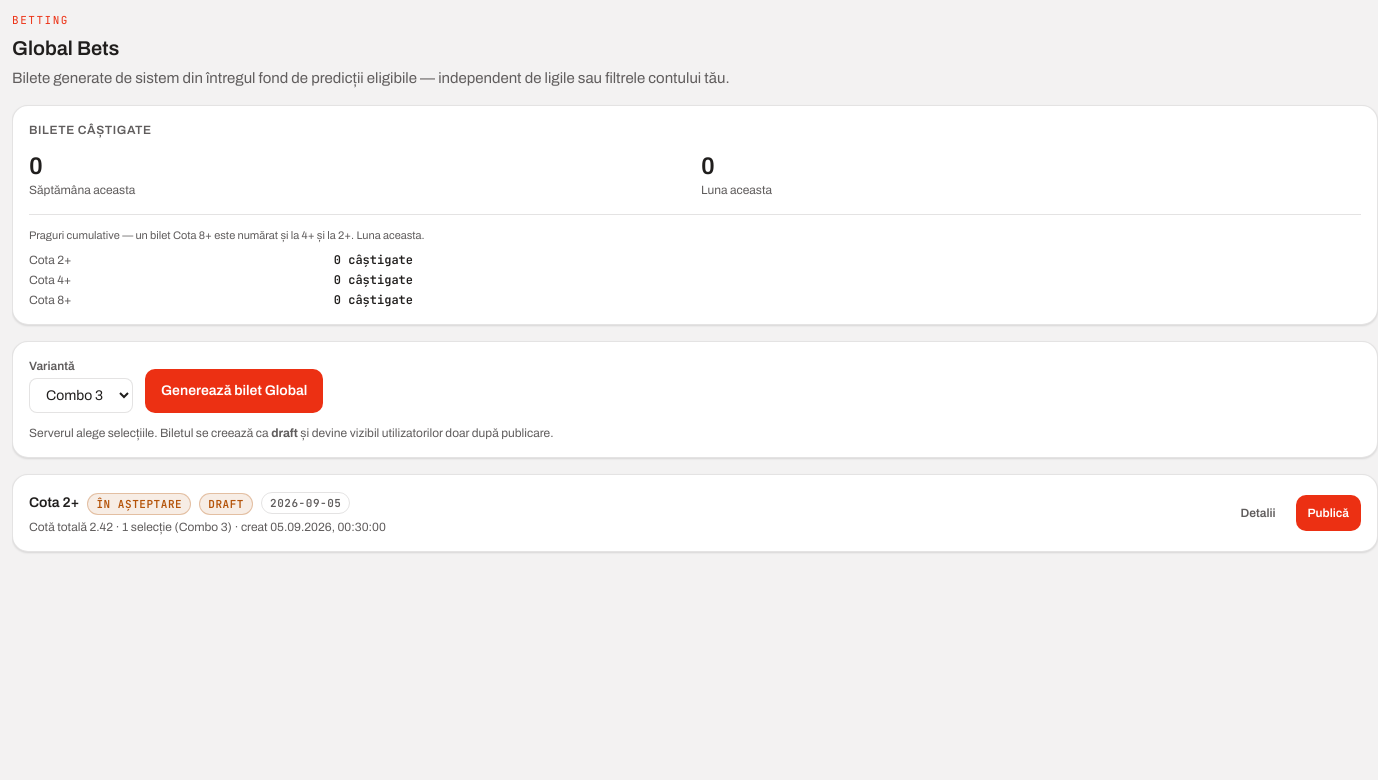
fixture status and score › shows FT with the real score, and the settlement that actually applies
Click the button "Detalii".
click(1258, 513)  # box [1229,495,1288,531]
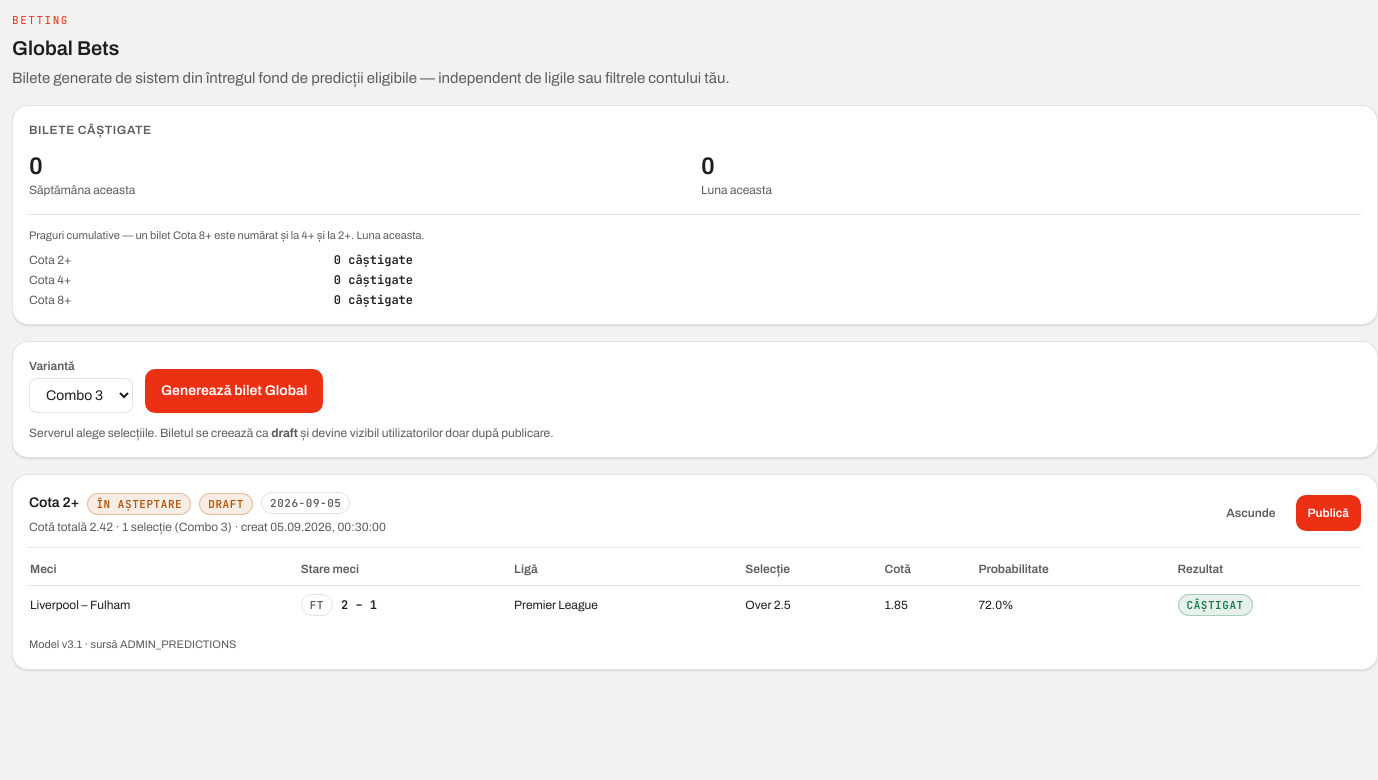
Expected: the text with test id "fixture-score" reads "2 – 1", [341,597,377,613]
Expected: the element with test id "fixture-state" shows "FT", [310,598,324,612]
Expected: the text "Câștigat" is shown, [1178,594,1253,616]
